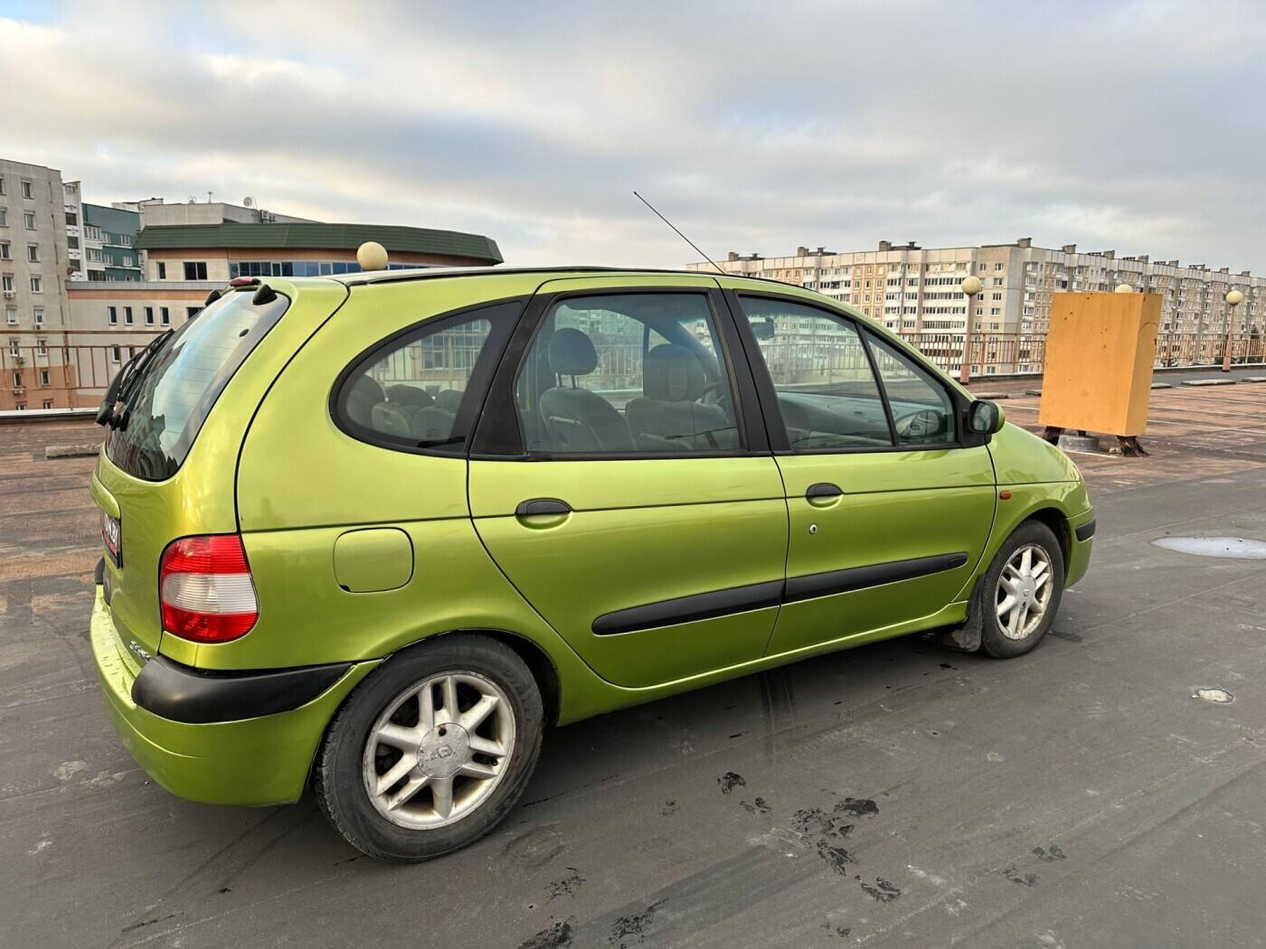Megane_1999-2003: (72, 261, 1088, 853)
